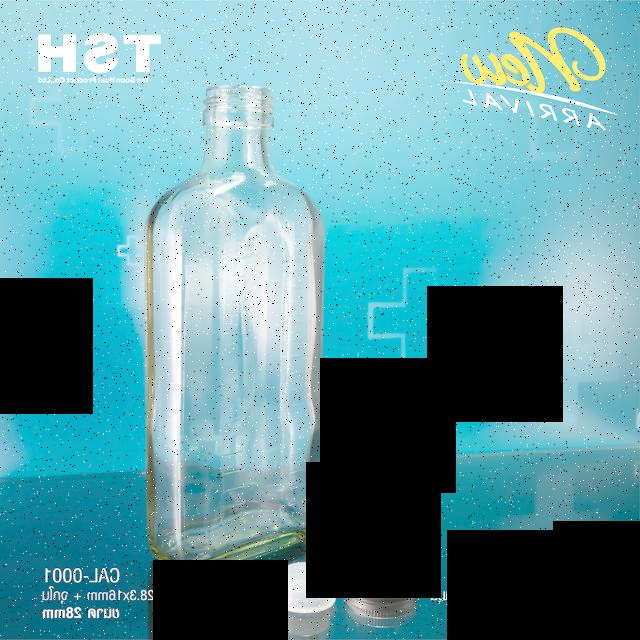glass-bottle: (122, 72, 356, 581)
